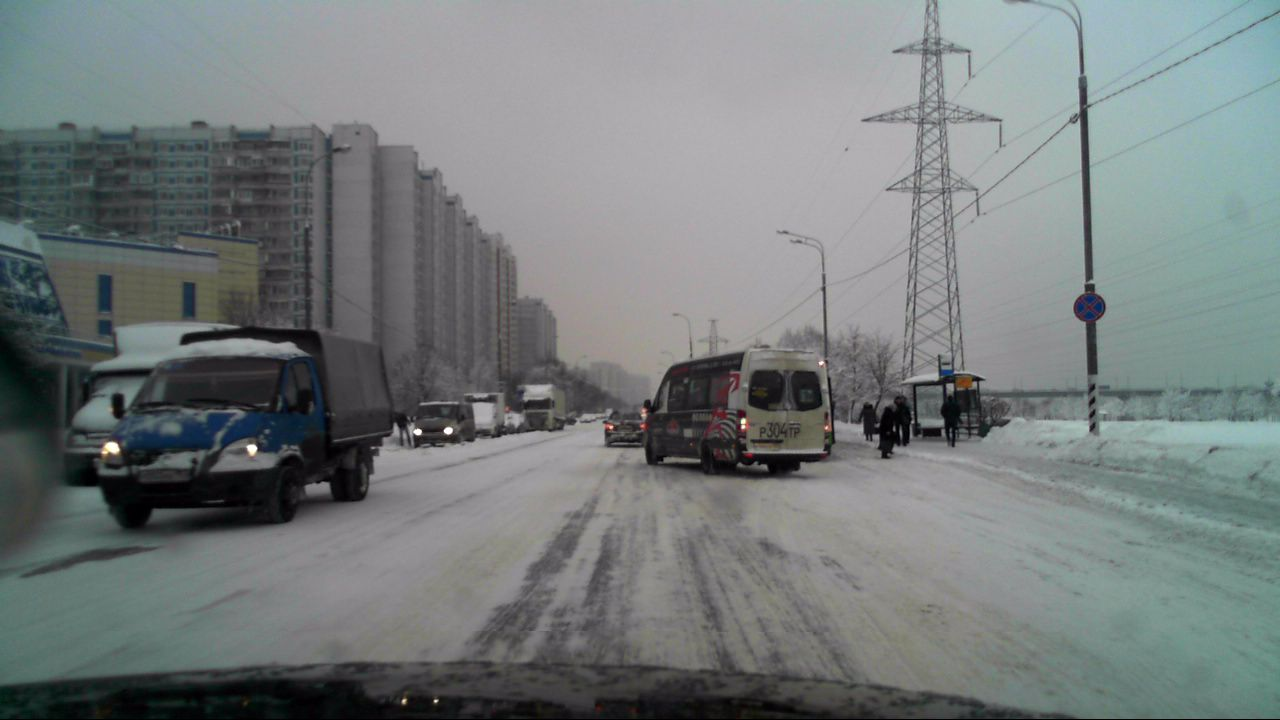No Parking: (1072, 291, 1108, 324)
